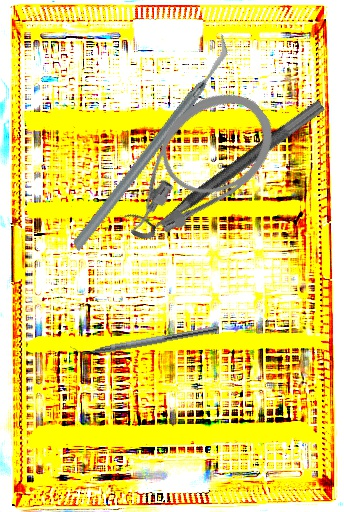Cannula: (94, 74, 291, 257)
Chopper: (19, 32, 282, 254), (69, 316, 218, 361)
Fixation Ring: (120, 83, 327, 246)
